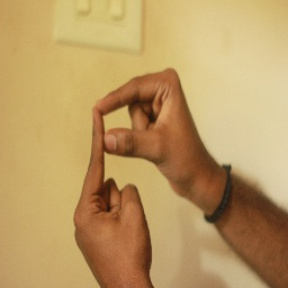P: (72, 64, 200, 233)
